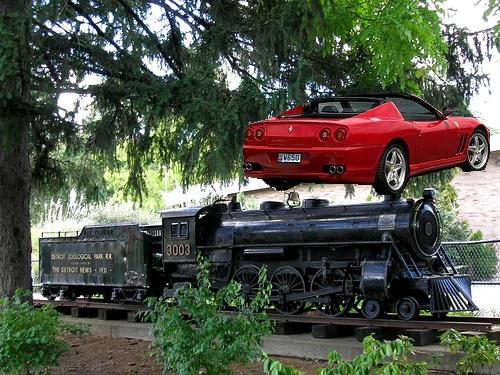tampered: (244, 93, 490, 195)
